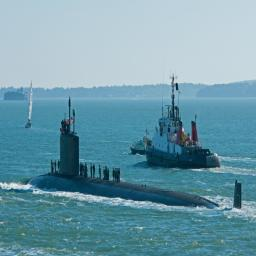submarine: (31, 133, 243, 210)
